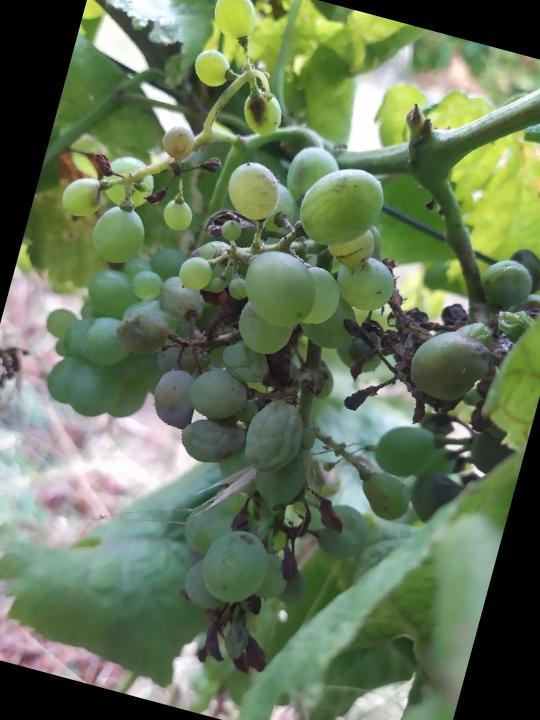grape: (34, 105, 540, 720)
